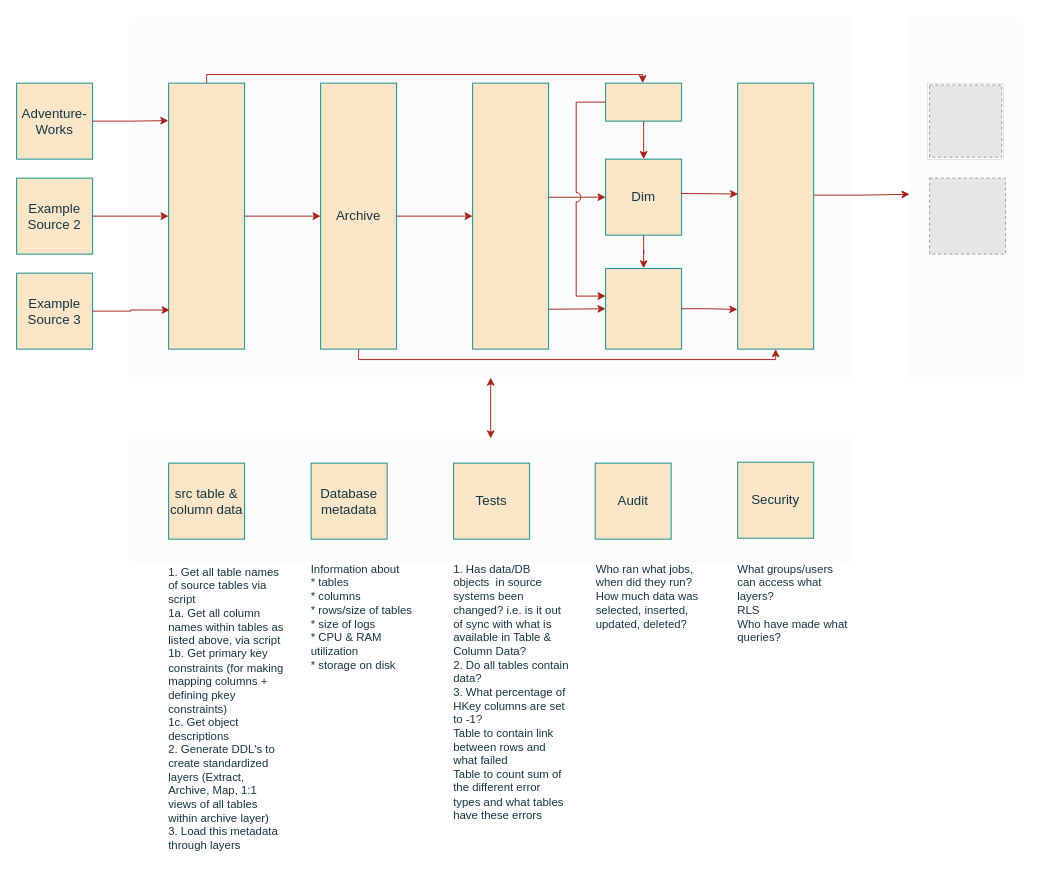
The diagram is 1039 pixels wide and 894 high, and some of its shapes have lost their labels. Grey dashed boxes stand in for pictures. Each missing label, with the centre of its shape:
"Extract" goes at [206,215].
"Fact" goes at [643,308].
"Map" goes at [643,101].
"Staging" goes at [510,215].
"View" goes at [775,215].
